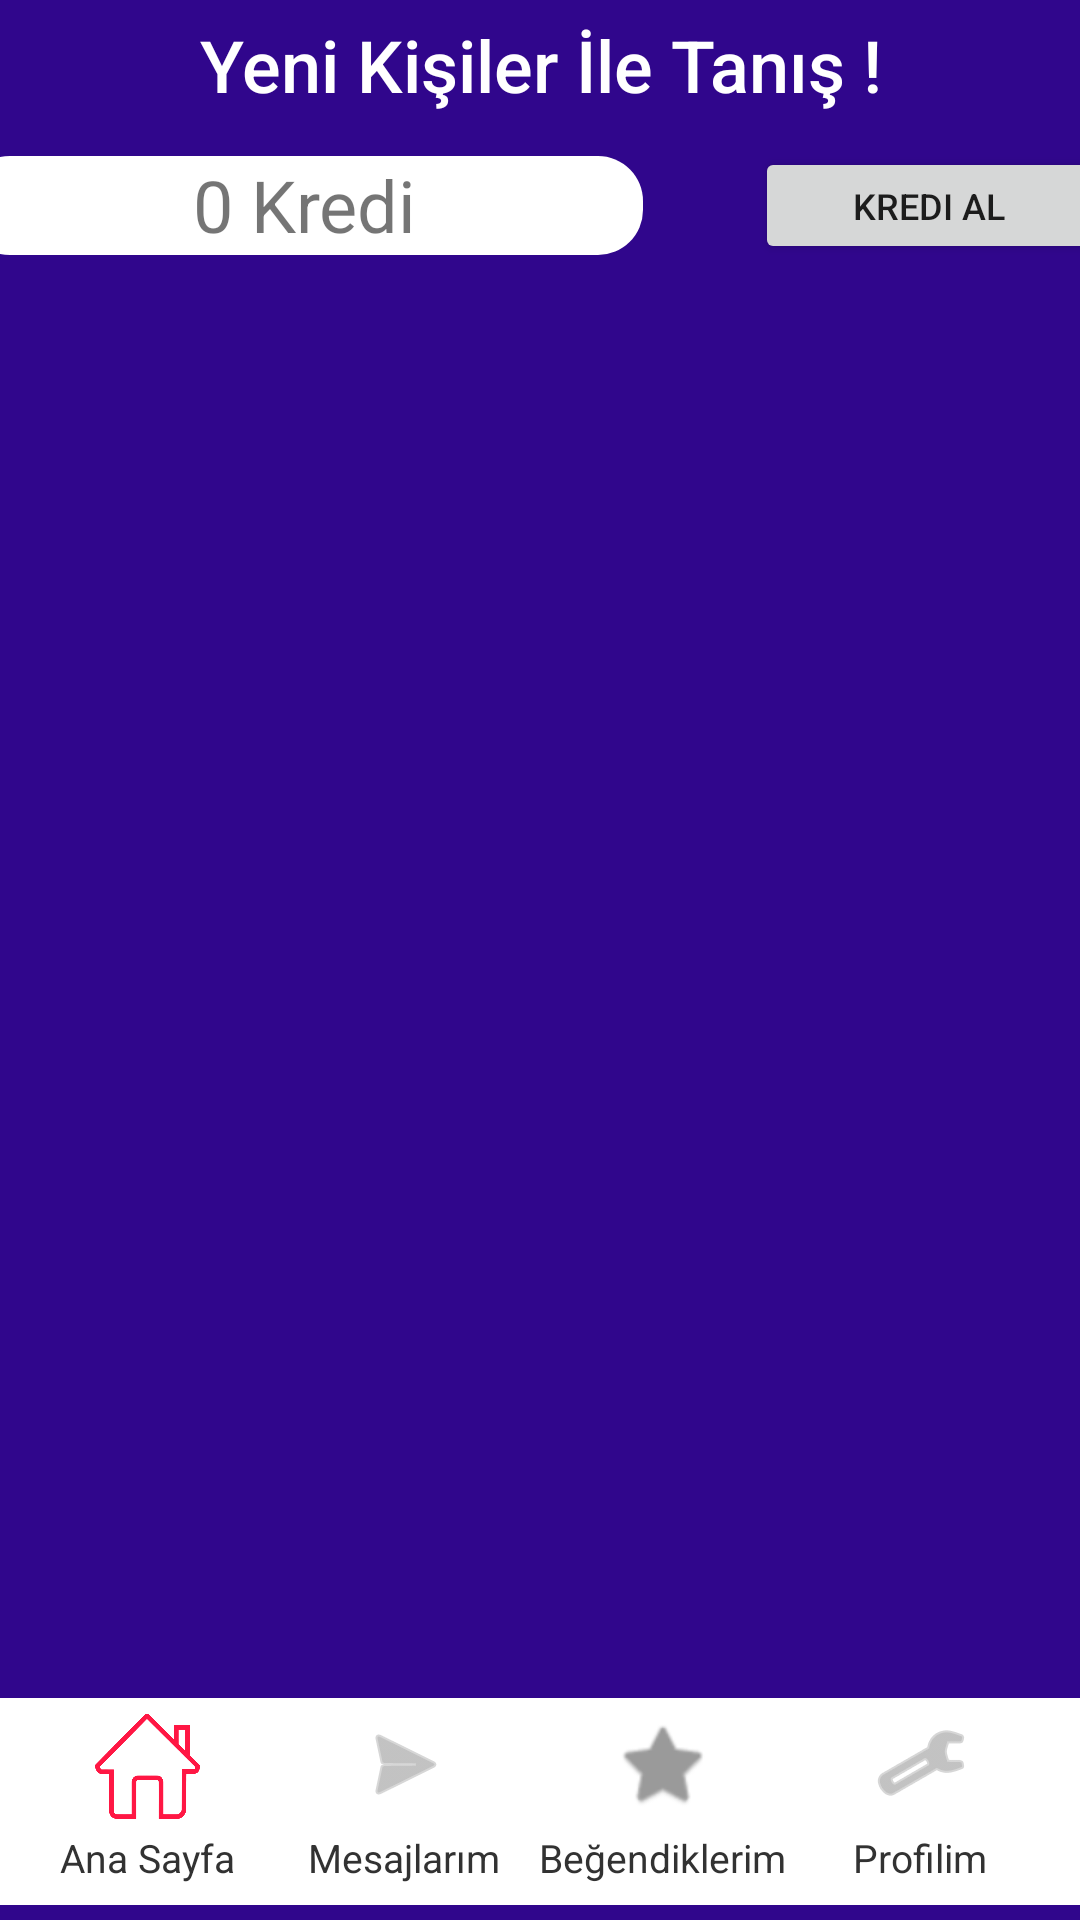

Locate icon controls on the screen. Image size 1080*1920, boxes as box=[x1, y1, x2, y2].
manage: box=[878, 1730, 964, 1796]
send: box=[376, 1735, 436, 1794]
star: box=[624, 1727, 702, 1803]
